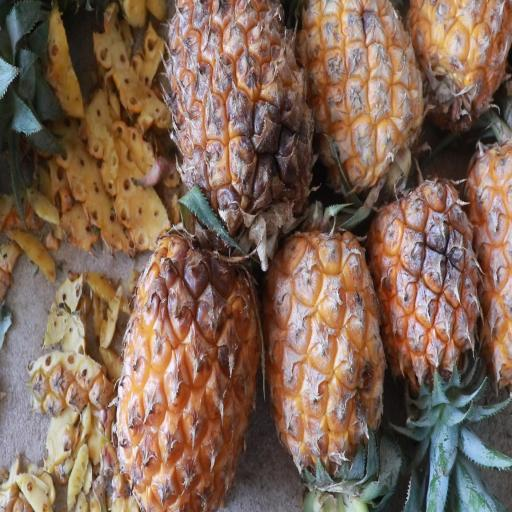Pineapple - v8 v1: (115, 221, 264, 512), (170, 0, 320, 245), (262, 213, 392, 478), (306, 0, 436, 205), (368, 175, 490, 387), (404, 0, 512, 148)
